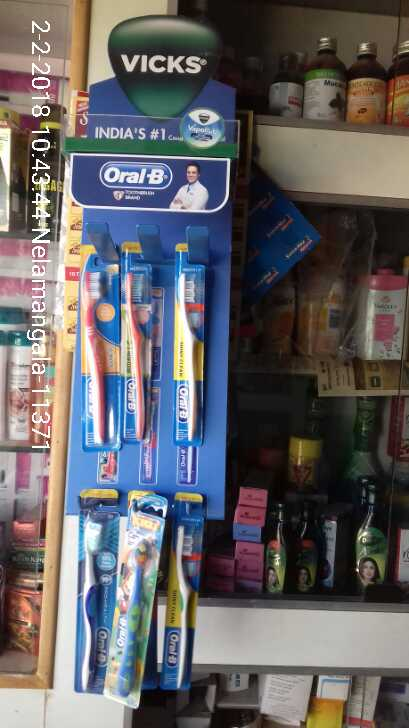oralb: (166, 273, 221, 438), (112, 498, 156, 700), (157, 503, 203, 691), (116, 264, 156, 437), (72, 496, 108, 686), (76, 263, 112, 447)
